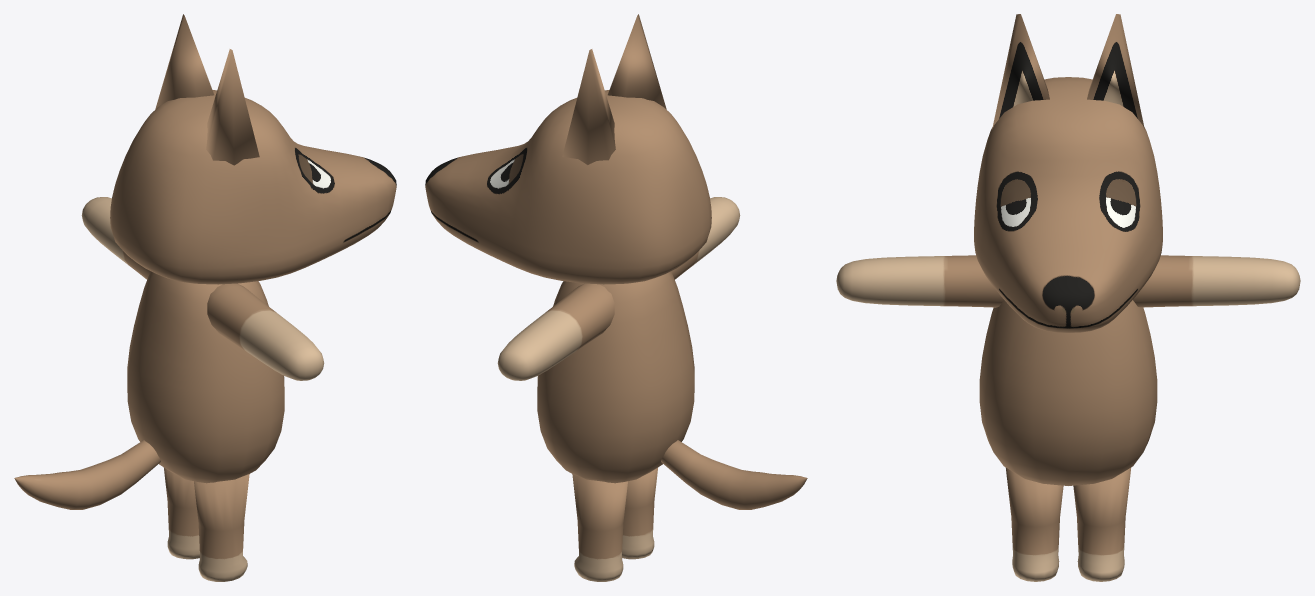
The model's file is jackaltextures 1.fbx.
3 views of the same model, side by side, from view 1: azimuth 30°, elevation 25°; view 2: azimuth 150°, elevation 25°; view 3: azimuth 270°, elevation 25° (orthographic). The views are drawn at different scales.
Visible parts, largest first — view 1: Tail; view 2: Tail; view 3: Tail.
Boxes of the visible parts, <box> form: Tail: <box>14,14,396,581</box>; Tail: <box>425,14,807,581</box>; Tail: <box>836,14,1300,581</box>.
Size of the model in its own units: 130 by 175 by 132.
Materials: 1 (1 with a texture image).
